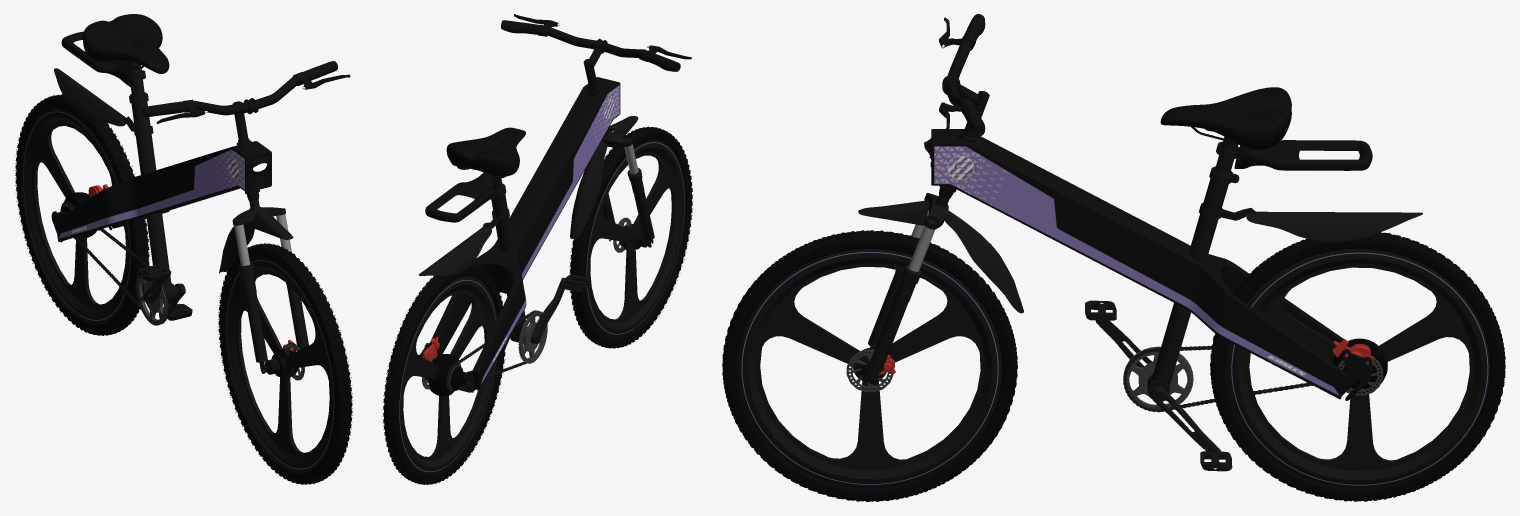
The model's file is 2nd_graphics_4_purple.glb.
3 renders of one model, left to right at view 1: azimuth 30°, elevation 25°; view 2: azimuth 150°, elevation 25°; view 3: azimuth 270°, elevation 25°, orthographic. The views are drawn at different scales.
Visible parts, largest first — view 1: alloy wheel, alloy wheel.001, treads front, treads rear, frame, seat, 2nd-graphics-4-right, seat joint, handle bar, Part1, rear fender, fender front (+10 smaller); view 2: frame, alloy wheel, alloy wheel.001, treads rear, treads front, seat, handle bar, 2nd-graphics-4-right, fender front, Cube.008, Part1, rear fender (+8 smaller); view 3: alloy wheel, alloy wheel.001, frame, treads front, treads rear, 2nd-graphics-4-left, seat, seat joint, rear fender, fender front, Part1, Cube.008 (+5 smaller).
Boxes of the visible parts, x1,y1,x2,y2 form: alloy wheel: (226, 257, 334, 472); alloy wheel.001: (23, 108, 131, 323); treads front: (218, 243, 352, 484); treads rear: (15, 94, 149, 335); frame: (51, 141, 271, 242); seat: (83, 14, 169, 73); 2nd-graphics-4-right: (58, 149, 244, 238); seat joint: (126, 61, 179, 303); handle bar: (142, 61, 350, 123); Part1: (232, 199, 308, 373); rear fender: (54, 68, 130, 126); fender front: (219, 208, 293, 273); frame: (418, 77, 619, 392); alloy wheel: (585, 139, 685, 337); alloy wheel.001: (399, 276, 497, 473); treads rear: (382, 264, 506, 484); treads front: (569, 126, 693, 348); seat: (446, 127, 525, 178); handle bar: (501, 14, 691, 71); 2nd-graphics-4-right: (481, 85, 619, 384); fender front: (570, 116, 638, 239); Cube.008: (425, 172, 495, 222); Part1: (602, 129, 654, 247); rear fender: (418, 225, 491, 276); alloy wheel: (738, 249, 1002, 488); alloy wheel.001: (1225, 248, 1490, 488); frame: (932, 129, 1372, 400); treads front: (722, 230, 1017, 501); treads rear: (1210, 232, 1505, 501); 2nd-graphics-4-left: (934, 146, 1339, 395); seat: (1160, 87, 1291, 149); seat joint: (1147, 136, 1239, 398); rear fender: (1246, 211, 1422, 241); fender front: (858, 200, 1023, 313); Part1: (865, 193, 949, 384); Cube.008: (1234, 140, 1372, 170).
Size of the model in its own units: 0.6041 by 1.07 by 1.77.
14 materials, 3 textured.
